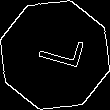L_W: (26, 33, 84, 77)
